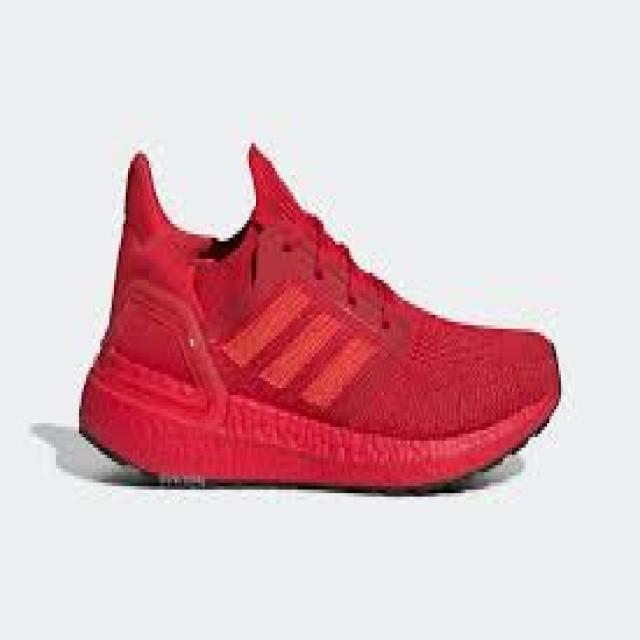shoe: (76, 144, 564, 493)
